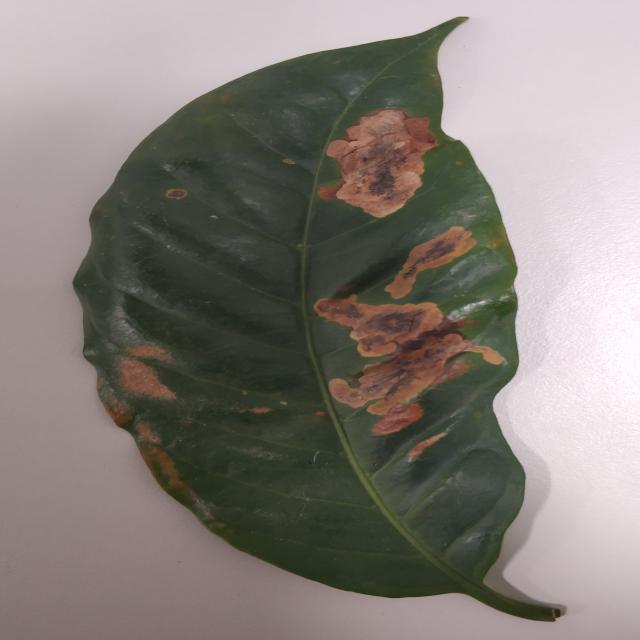Plaga-Minador: (71, 17, 566, 625)
